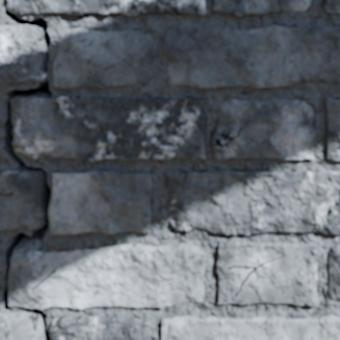brick: (10, 243, 205, 310), (13, 98, 205, 161), (165, 170, 339, 235), (165, 27, 339, 88), (218, 242, 318, 307), (50, 170, 151, 234), (213, 99, 316, 159), (53, 29, 152, 88), (163, 316, 339, 339), (0, 170, 43, 231), (6, 0, 173, 15), (0, 27, 42, 84), (51, 316, 151, 339), (215, 0, 310, 16), (0, 312, 40, 339), (327, 99, 339, 160), (328, 245, 339, 300), (168, 0, 198, 14), (330, 205, 339, 235), (325, 0, 339, 12), (197, 0, 205, 14)
crack: (0, 1, 52, 339), (212, 120, 249, 150), (296, 191, 320, 233), (326, 198, 339, 234), (162, 0, 179, 14), (194, 0, 203, 14), (4, 330, 11, 339)
